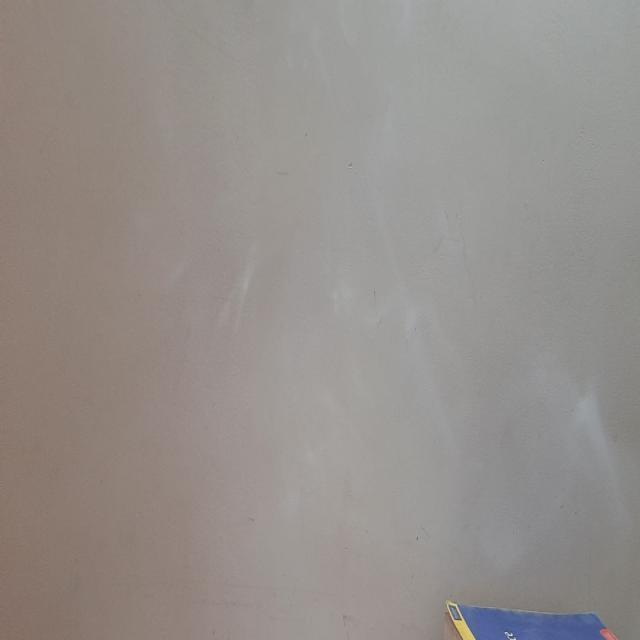fire: (199, 199, 610, 523)
